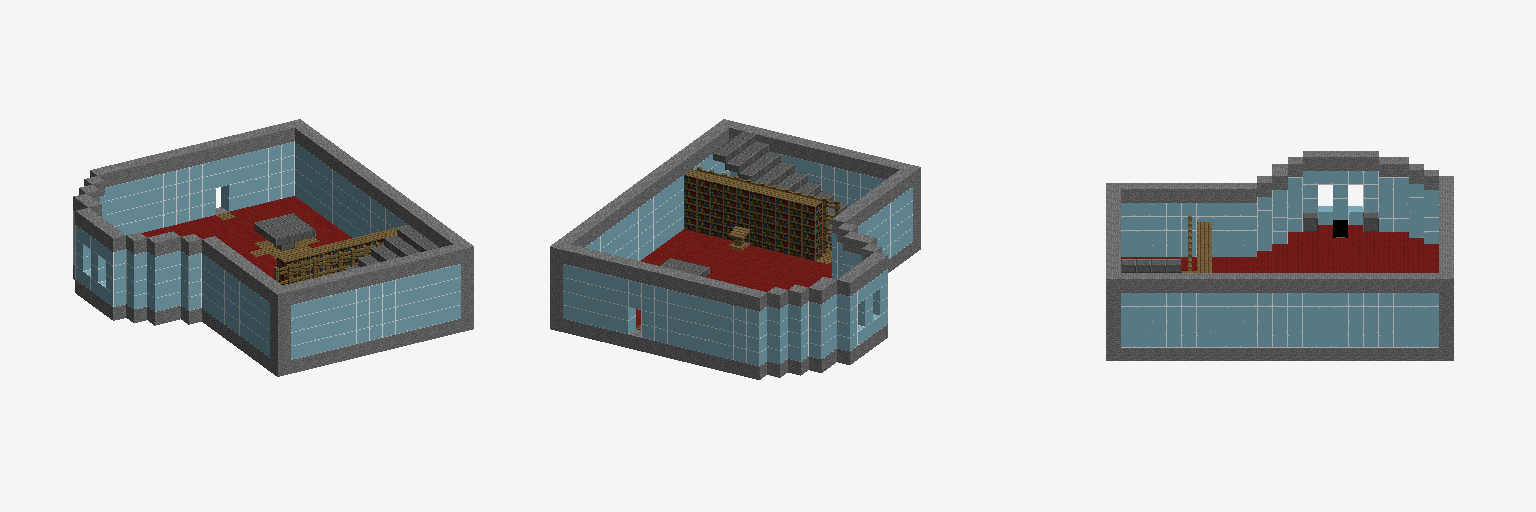
3 renders of one model, left to right at view 1: azimuth 30°, elevation 25°; view 2: azimuth 150°, elevation 25°; view 3: azimuth 270°, elevation 25°, orthographic.
Parts seen in each view (by area): view 1: polySurface1616; view 2: polySurface1616; view 3: polySurface1616.
Part boxes in pixels (x1,y1,x2,y2): polySurface1616: (73, 119, 473, 376); polySurface1616: (550, 119, 920, 379); polySurface1616: (1106, 151, 1453, 360).
Size of the model in its own units: 20 by 6.01 by 23.
Materials: 14 (9 with a texture image).